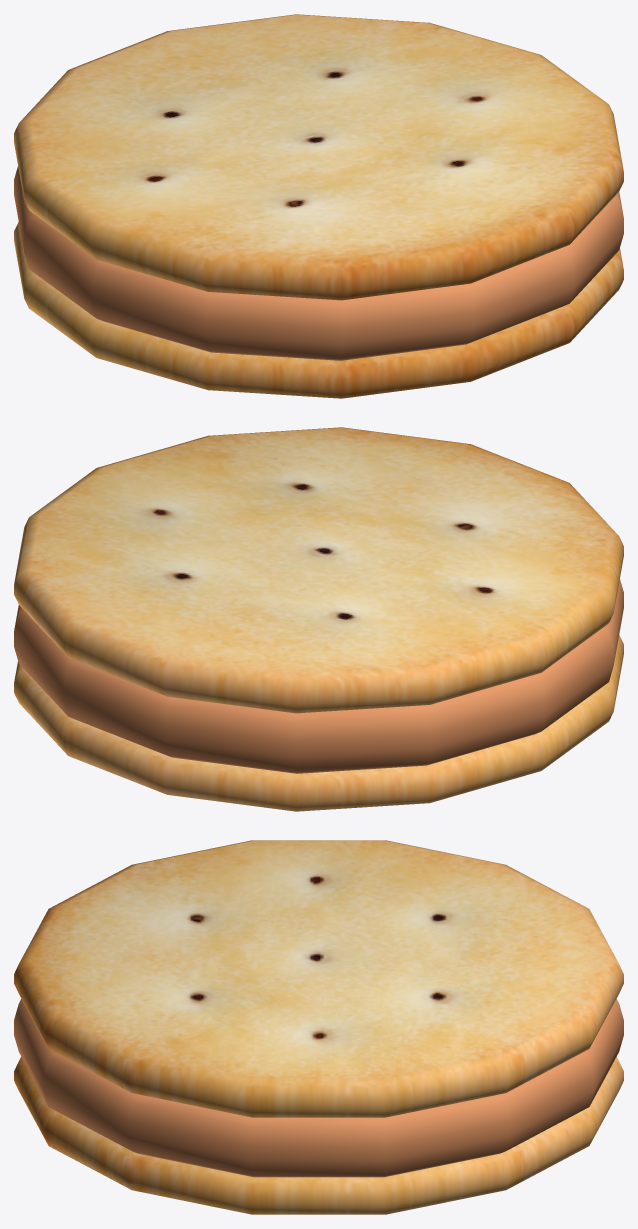
File: candy_waf_19.fbx
3 views of the same model, one above another, from view 1: azimuth 30°, elevation 25°; view 2: azimuth 150°, elevation 25°; view 3: azimuth 270°, elevation 25° (orthographic).
Parts seen in each view (by area): view 1: c_w_19; view 2: c_w_19; view 3: c_w_19.
Part boxes in pixels (<box>): c_w_19: <box>14,14,623,398</box>; c_w_19: <box>14,427,623,811</box>; c_w_19: <box>14,840,623,1214</box>.
Bounding box in the file's own units: 173 × 43.55 × 177.
